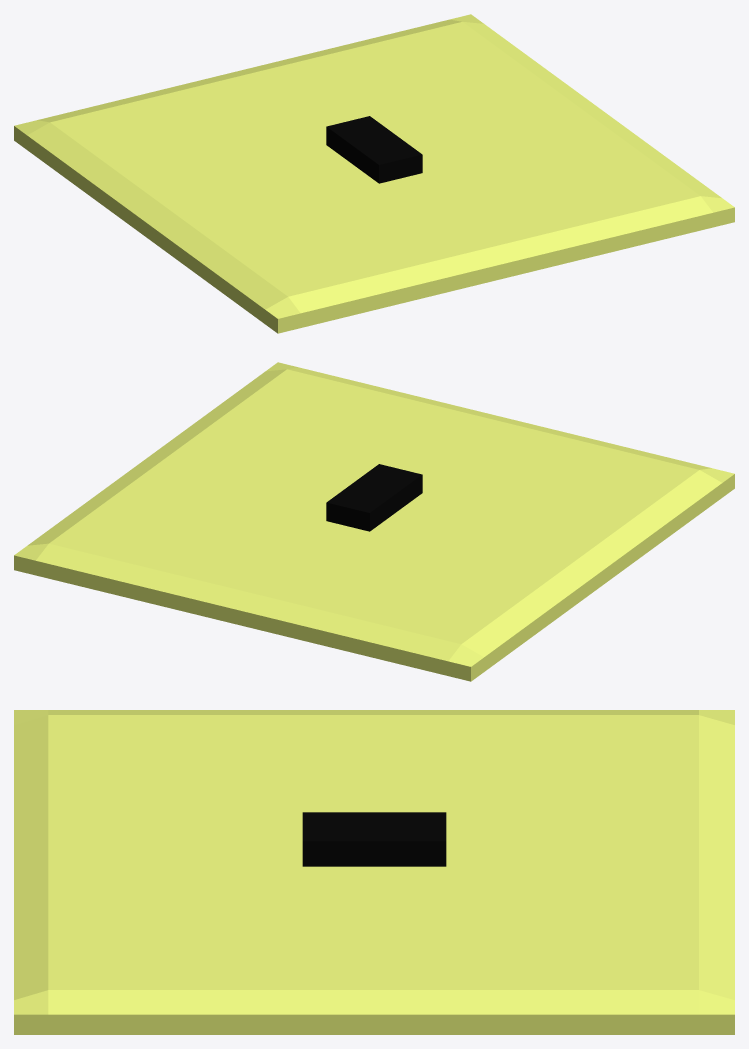
The model's file is Switch.fbx.
The picture shows the model from 3 angles, top to bottom: view 1: azimuth 30°, elevation 25°; view 2: azimuth 150°, elevation 25°; view 3: azimuth 270°, elevation 25°; orthographic projection. The views are drawn at different scales.
Parts seen in each view (by area): view 1: Plane, Cube; view 2: Plane, Cube; view 3: Plane, Cube.
Boxes of the visible parts, box(x1,y1,x2,y2) form: Plane: box(14, 14, 734, 333); Cube: box(326, 116, 422, 183); Plane: box(14, 362, 734, 681); Cube: box(326, 464, 422, 531); Plane: box(14, 710, 734, 1034); Cube: box(302, 812, 446, 866).
Bounding box in the file's own units: 200 × 20.83 × 200.
